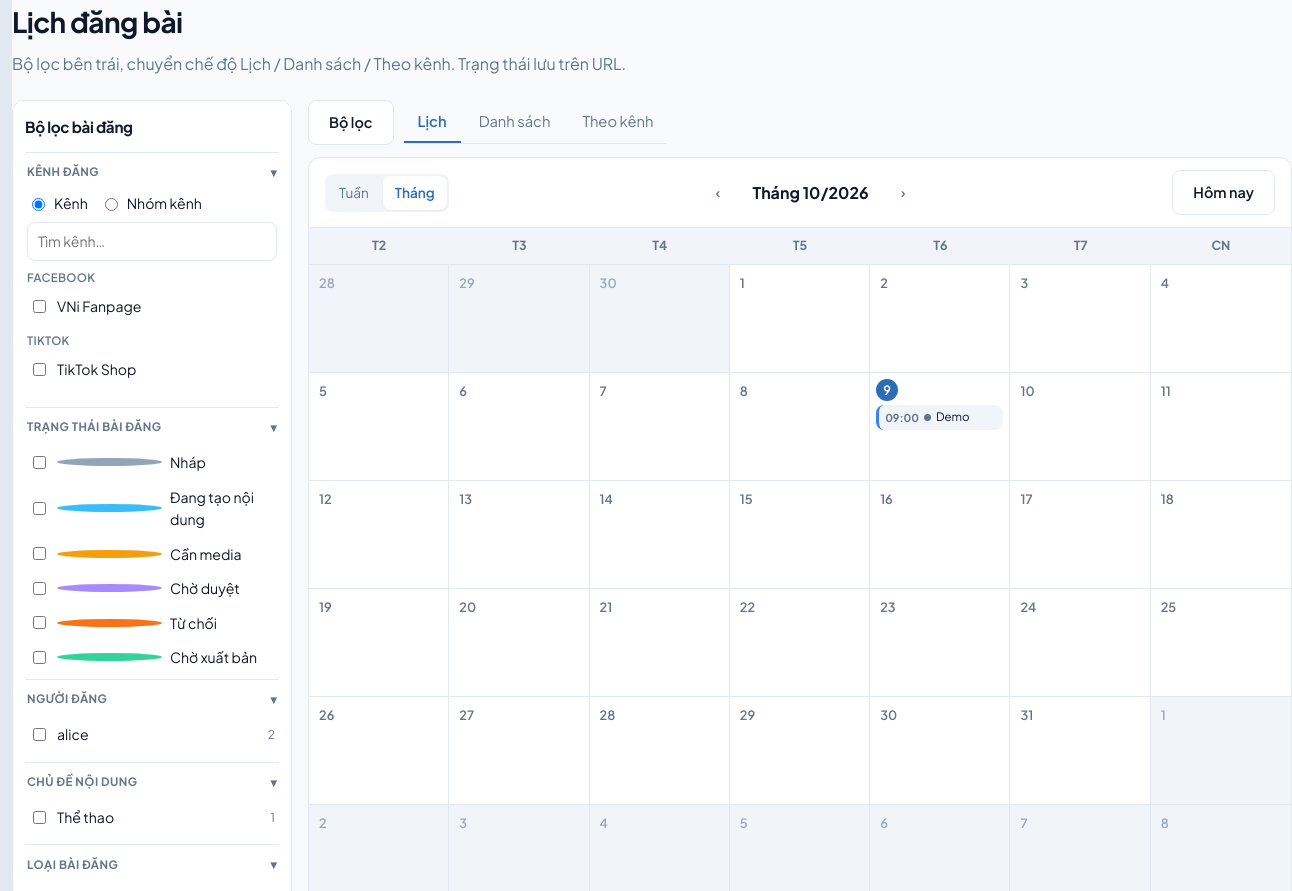
Test case: Calendar shell — AC calendar-views-ui-test (a)(e) › (e) channel search filters channel list
This screenshot has width=1292, height=891.
Expected: the text "VNi Fanpage" is shown, [57, 297, 142, 315]
Expected: the text "TikTok Shop" is shown, [57, 360, 136, 378]
Step 1. Type "tiktok" into the search field labelled "Tìm kênh" → (152, 242), box [27, 222, 277, 261]
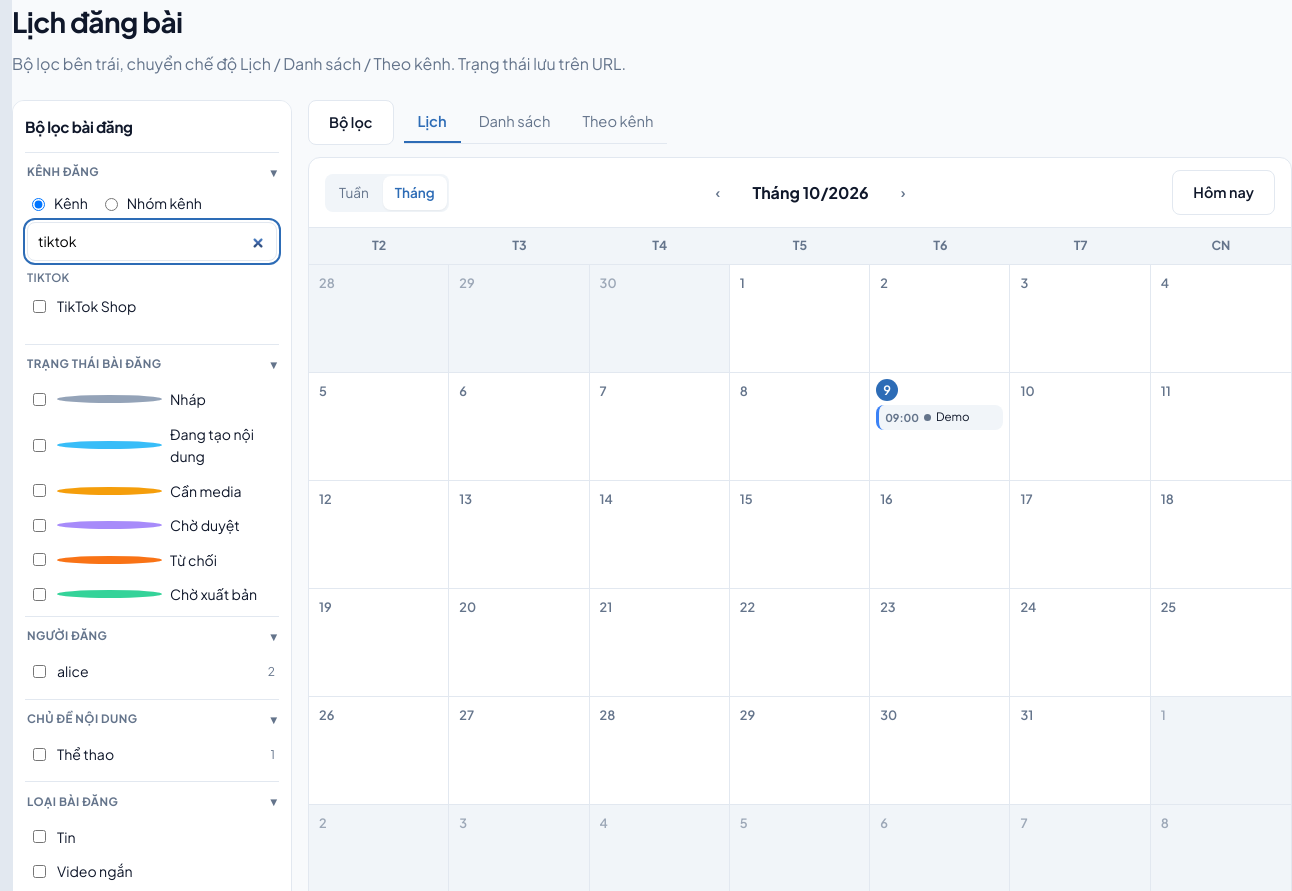
Expected: the text "TikTok Shop" is shown, [57, 297, 136, 315]
Result: the text "VNi Fanpage" is gone
